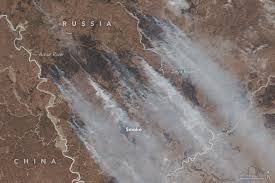smoke: (71, 75, 275, 179)
